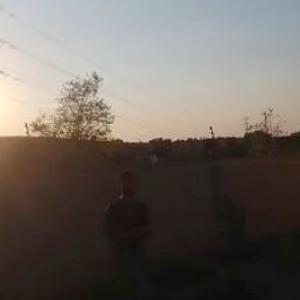follow: (104, 166, 166, 299)
